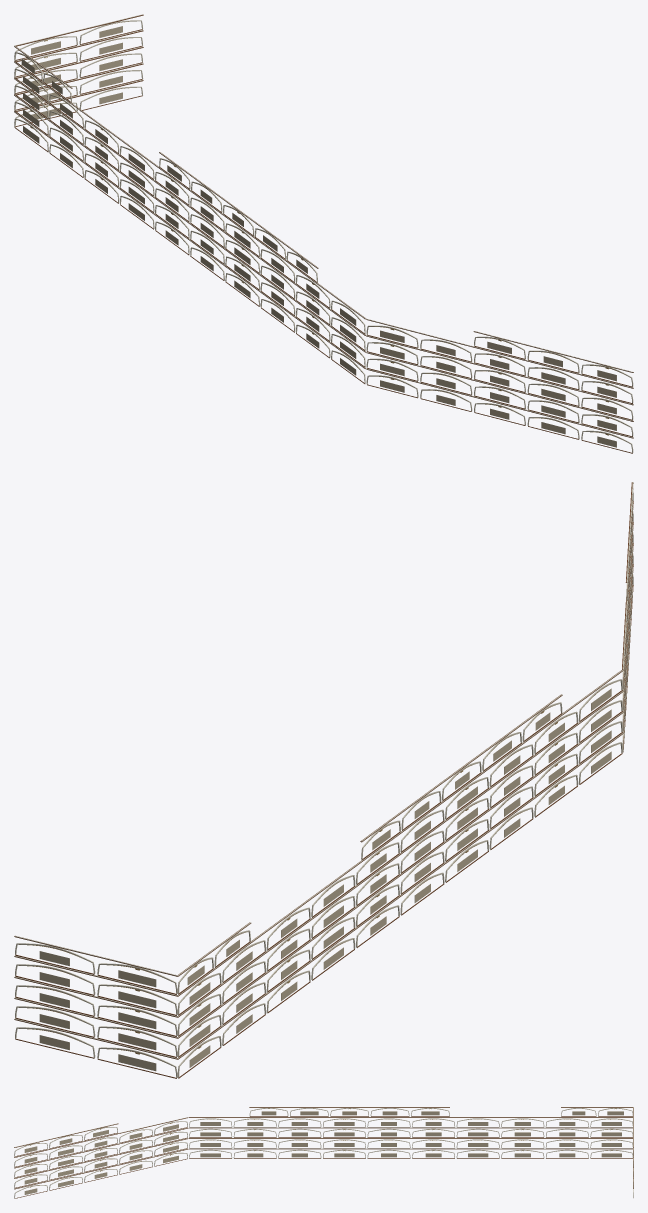
File: SunsetEnclosure_r002.glb
The picture shows the model from 3 angles, top to bottom: view 1: azimuth 30°, elevation 25°; view 2: azimuth 150°, elevation 25°; view 3: azimuth 270°, elevation 25°; orthographic projection. The views are drawn at different scales.
Parts seen in each view (by area): view 1: no part large enough to name; view 2: no part large enough to name; view 3: SC_OuterEnclosure_3_0_0_UpperSoffit, SC_OuterEnclosure_3_0_0_CrownLip, SC_OuterEnclosure_3_1_0_UpperSoffit, SC_OuterEnclosure_3_1_0_CrownLip, SC_OuterEnclosure_3_2_0_UpperSoffit, SC_OuterEnclosure_3_2_0_CrownLip, SC_OuterEnclosure_3_3_0_UpperSoffit, SC_OuterEnclosure_3_3_0_CrownLip, SC_OuterEnclosure_0_0_0_UpperSoffit, SC_OuterEnclosure_0_2_0_UpperSoffit, SC_OuterEnclosure_0_1_0_UpperSoffit, SC_OuterEnclosure_0_3_0_UpperSoffit (+6 smaller).
Part boxes in pixels (box(x1,y1,x2,y2)): SC_OuterEnclosure_3_0_0_UpperSoffit: box(189, 1149, 632, 1149); SC_OuterEnclosure_3_0_0_CrownLip: box(189, 1148, 632, 1148); SC_OuterEnclosure_3_1_0_UpperSoffit: box(189, 1138, 632, 1138); SC_OuterEnclosure_3_1_0_CrownLip: box(189, 1138, 632, 1138); SC_OuterEnclosure_3_2_0_UpperSoffit: box(189, 1128, 632, 1128); SC_OuterEnclosure_3_2_0_CrownLip: box(189, 1127, 632, 1127); SC_OuterEnclosure_3_3_0_UpperSoffit: box(189, 1117, 632, 1117); SC_OuterEnclosure_3_3_0_CrownLip: box(189, 1117, 632, 1117); SC_OuterEnclosure_0_0_0_UpperSoffit: box(14, 1149, 188, 1189); SC_OuterEnclosure_0_2_0_UpperSoffit: box(14, 1128, 188, 1168); SC_OuterEnclosure_0_1_0_UpperSoffit: box(14, 1138, 188, 1178); SC_OuterEnclosure_0_3_0_UpperSoffit: box(14, 1117, 188, 1157).
Bounding box in the file's own units: 37.2 × 22.13 × 241.
Materials: 5 (4 with a texture image).
